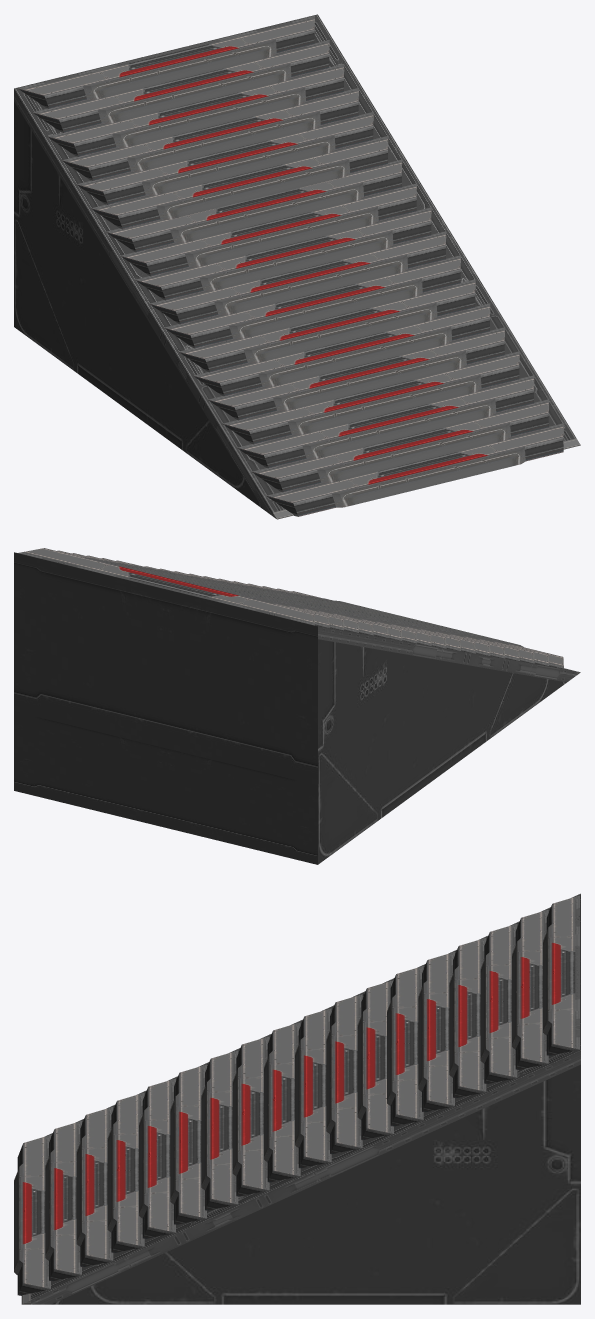
File: platform_stairs_4widetall.gltf
3 renders of one model, top to bottom at view 1: azimuth 30°, elevation 25°; view 2: azimuth 150°, elevation 25°; view 3: azimuth 270°, elevation 25°, orthographic. The views are drawn at different scales.
Parts seen in each view (by area): view 1: Platform_Stairs_4WideTall; view 2: Platform_Stairs_4WideTall; view 3: Platform_Stairs_4WideTall.
Part boxes in pixels (x1,y1,x2,y2): Platform_Stairs_4WideTall: [14, 14, 580, 519]; Platform_Stairs_4WideTall: [14, 548, 580, 864]; Platform_Stairs_4WideTall: [14, 893, 580, 1304].
Bounding box in the file's own units: 4 × 3.01 × 6.08.
Materials: 2 (2 with a texture image).
